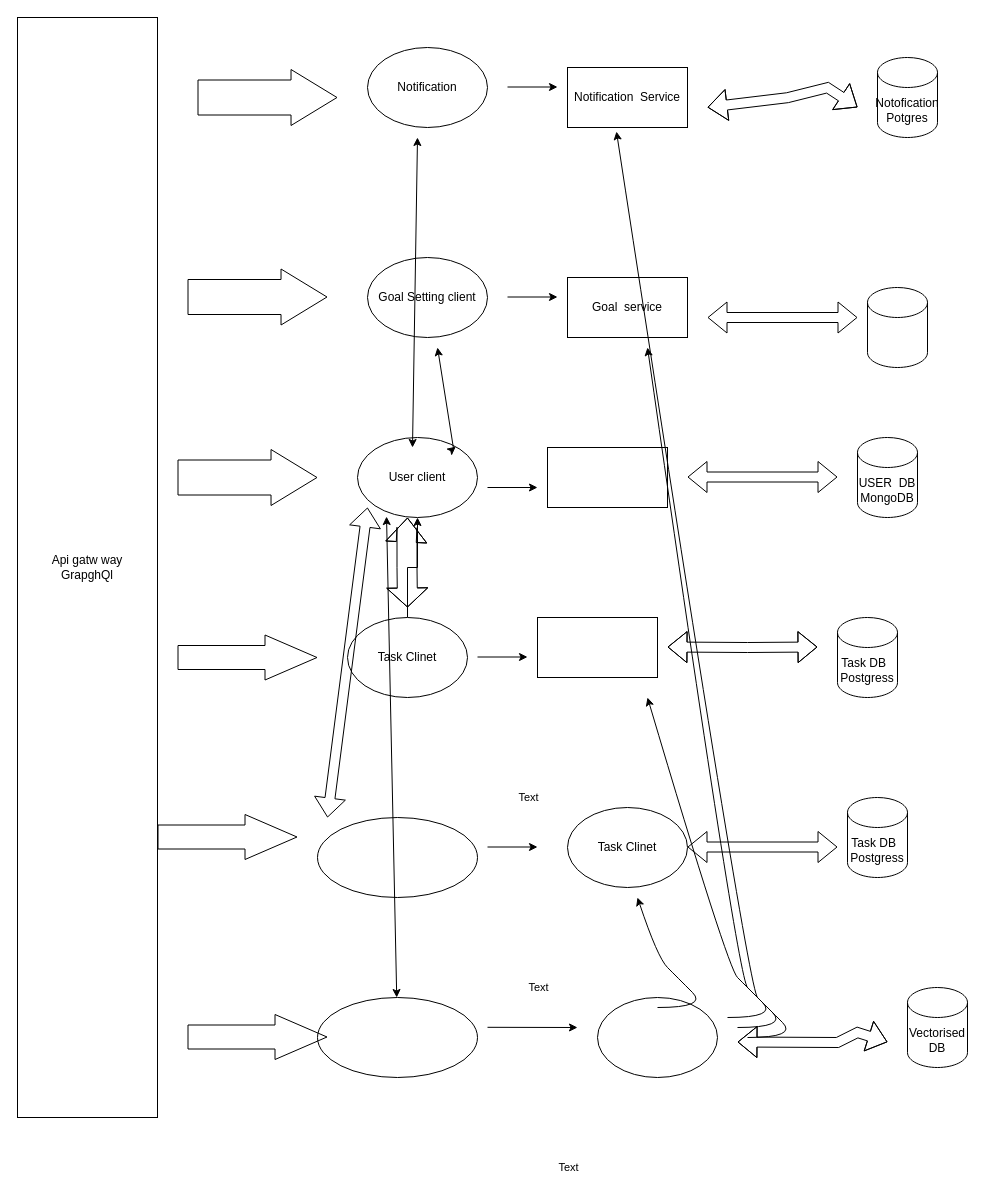
Image size: 985x1192. Some labels were removed from this diagram. Each missing label, with the centre of its shape:
"Ai Agent" belongs at (657,1037).
"AI personal Assistant" belongs at (397,1037).
"Goal DB MongoDB" belongs at (897,327).
"Habit Client" belongs at (397,857).
"Task server" belongs at (597,647).
"User server" belongs at (607,477).
